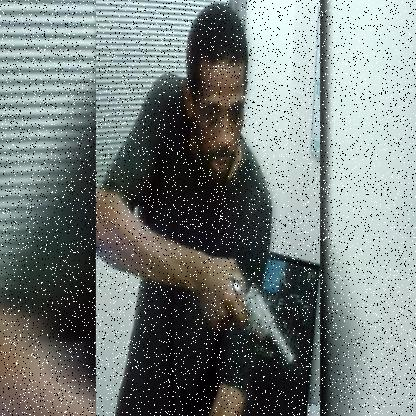pistol: (224, 269, 295, 368)
